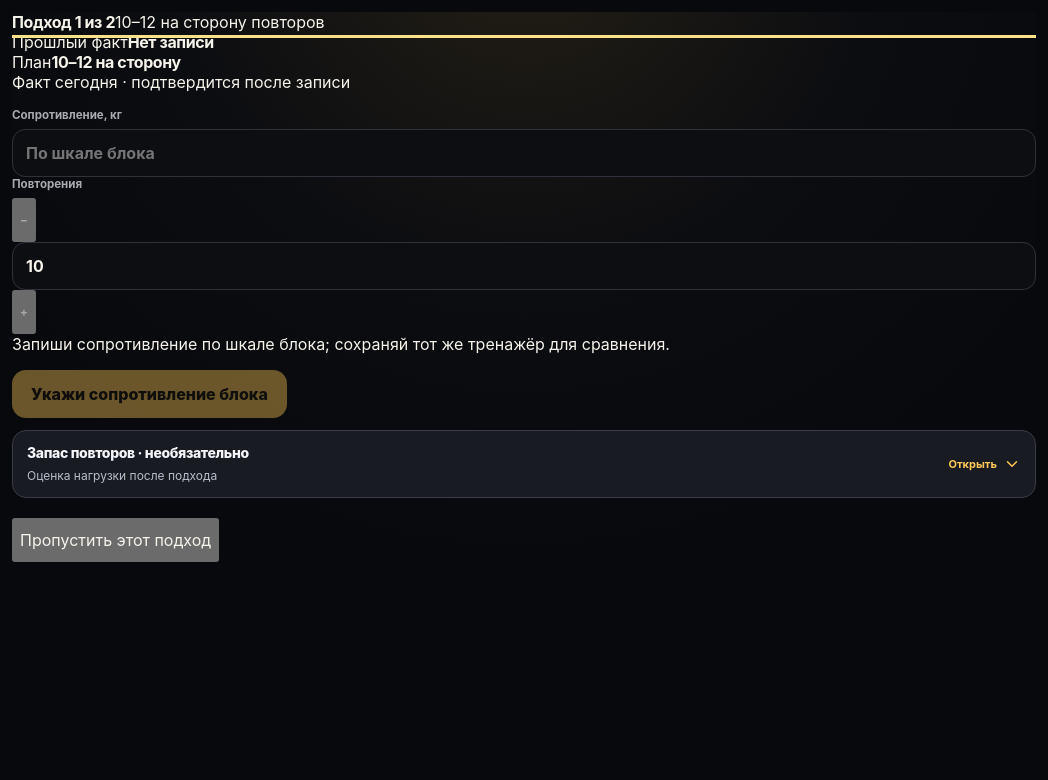
Test: rejects fractional reps without recording a fact
Type "5" into the number field named "вес кг". click: (524, 153)
box: [12,129,1036,177]
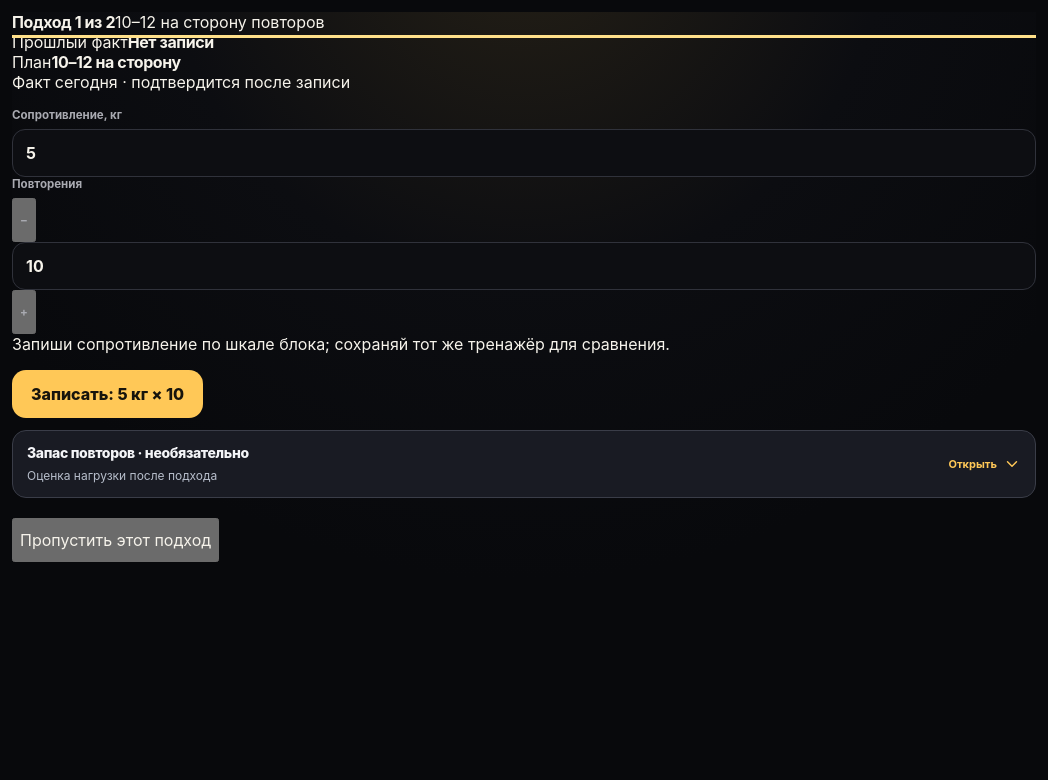
Replace the text in the number field named "повторы" with "10.5". click: (524, 266)
box: [12,242,1036,290]
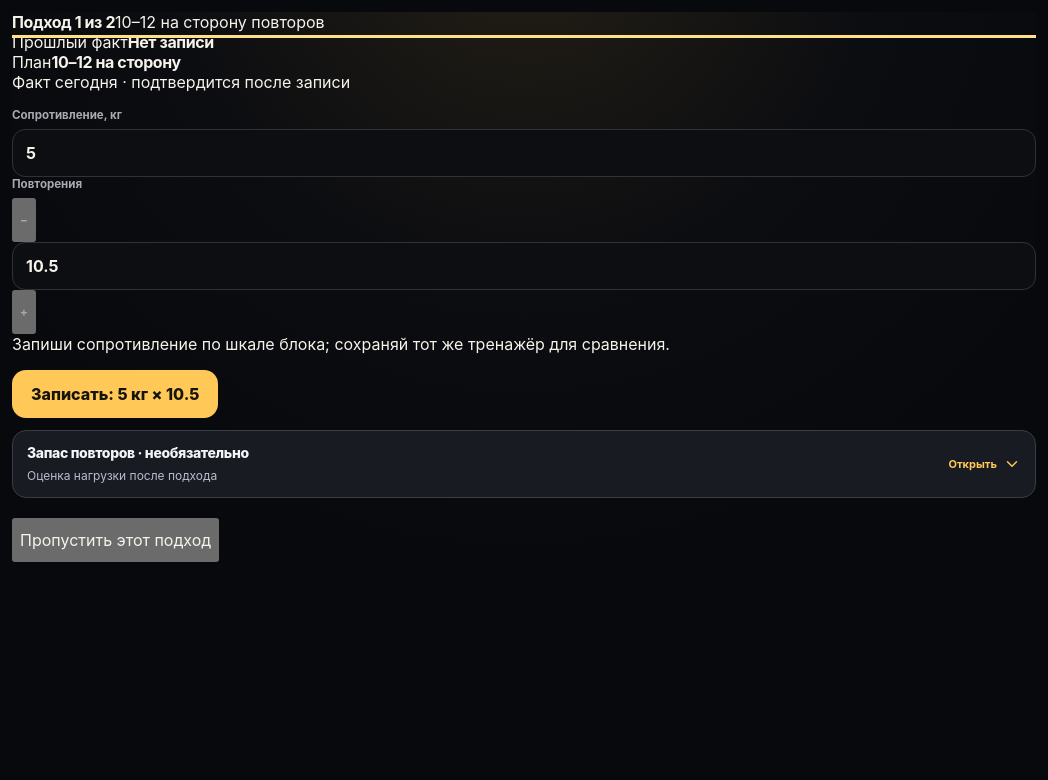
Click the button with aria-label "Записать подход 1 · Тест". click: (115, 394)
box: [12,370,218,418]
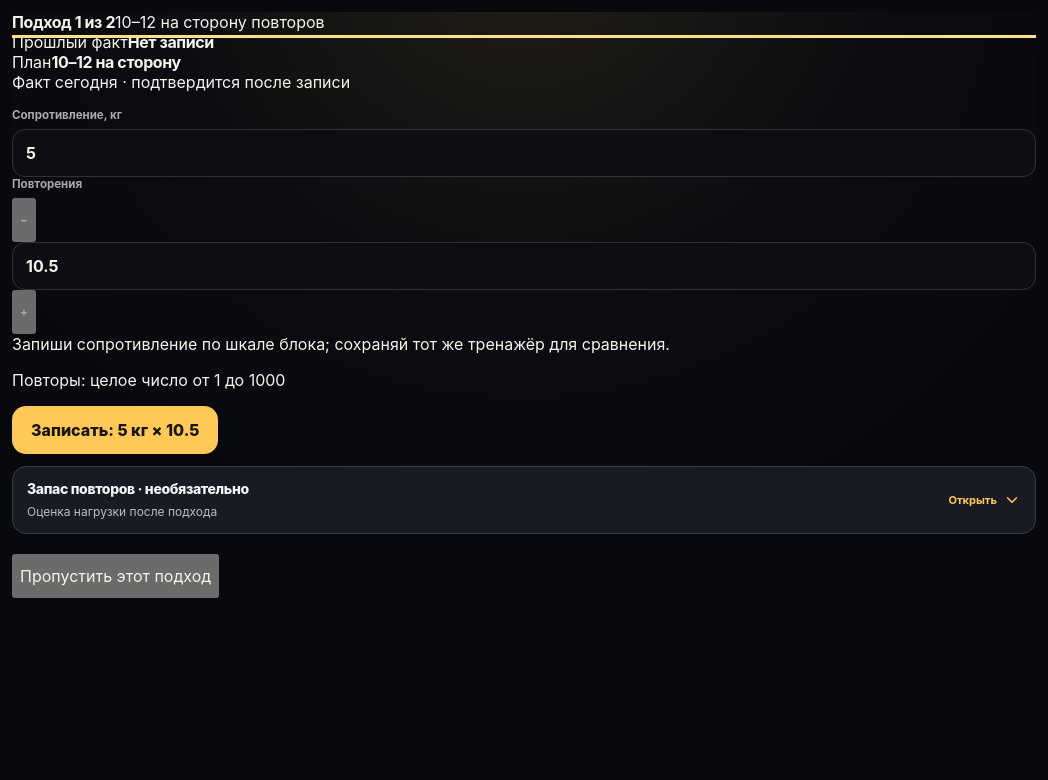
Check: the message "Повторы: целое число от 1 до 1000" is shown, box [12,370,285,390]
